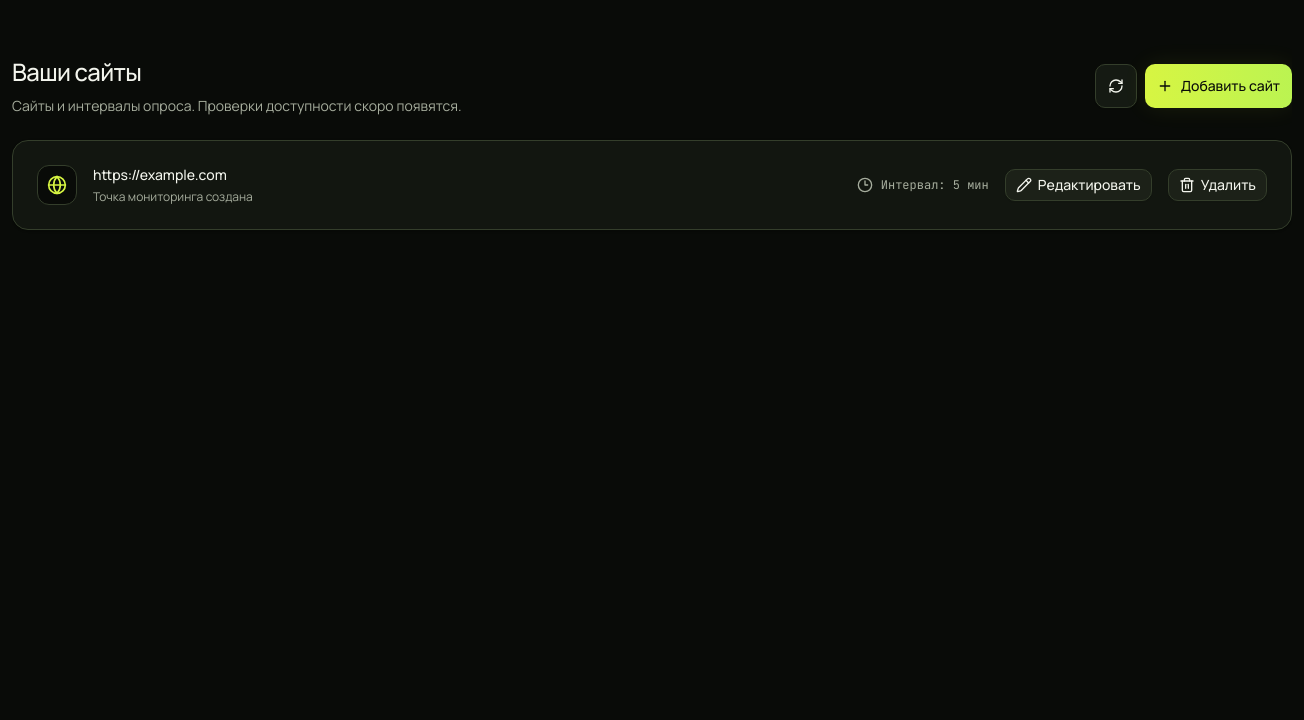
preserves draft and old card on a failed update
The image size is (1304, 720).
Expected: the text "https://example.com" is shown, [93,165,227,184]
Click the button "Редактировать": (1078, 185) [1005,169,1152,201]
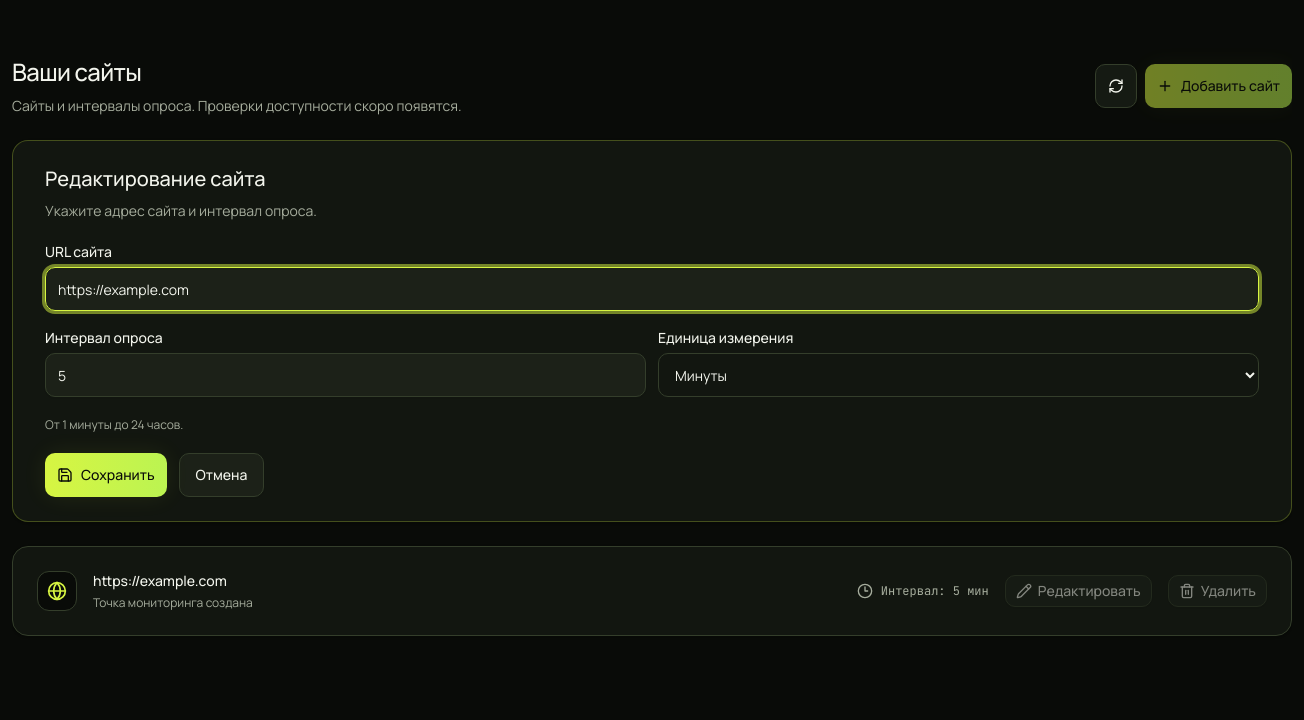
In the field labelled "URL сайта": (652, 289) [45,267,1259,311], type "https://draft.example.com"
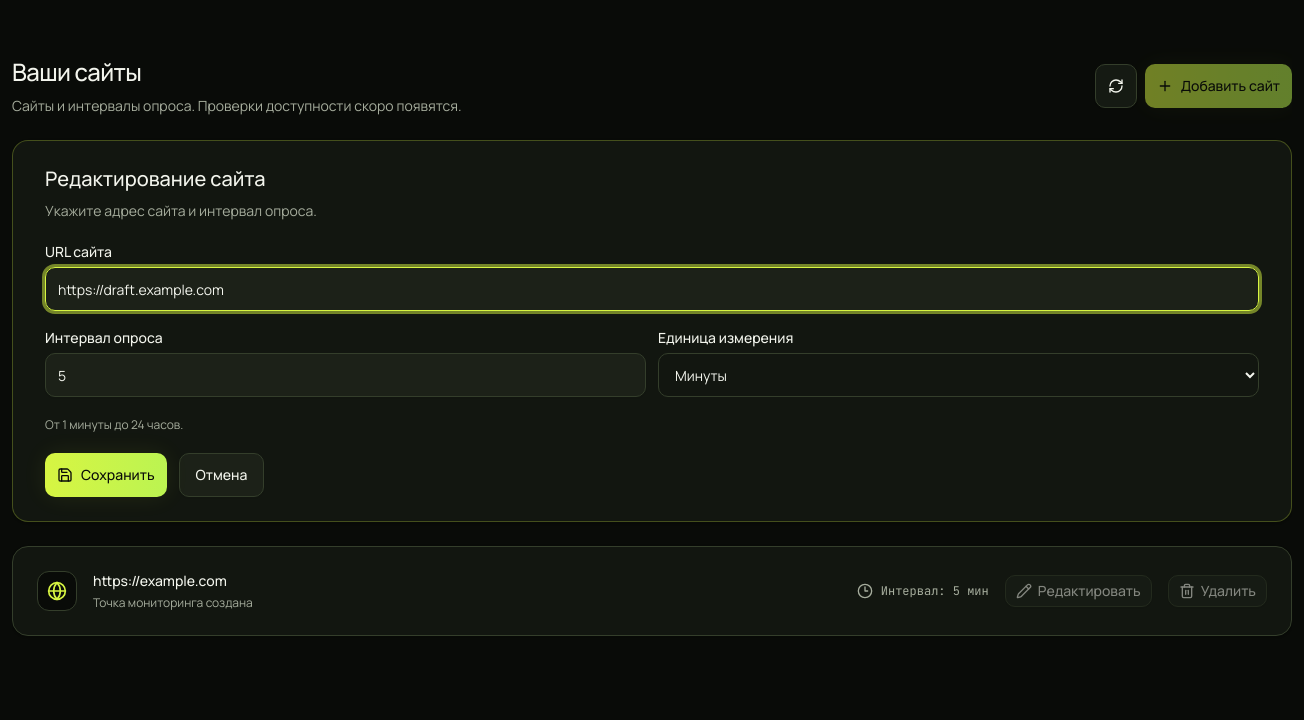
Click the button "Сохранить": (106, 475) [45,453,167,497]
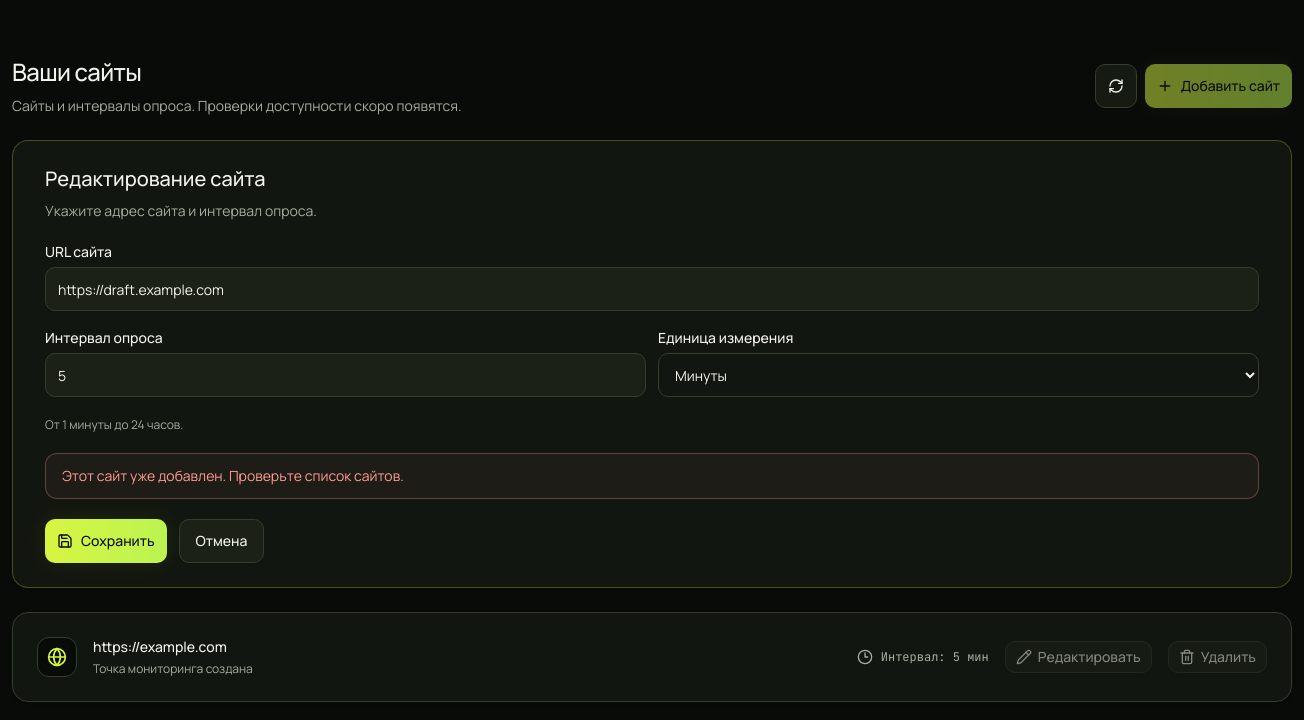
Expected: the text "https://example.com" is shown, [93,637,227,656]
Now the message "Этот сайт уже добавлен. Проверьте список сайтов." is shown, box [45,453,1259,499]
